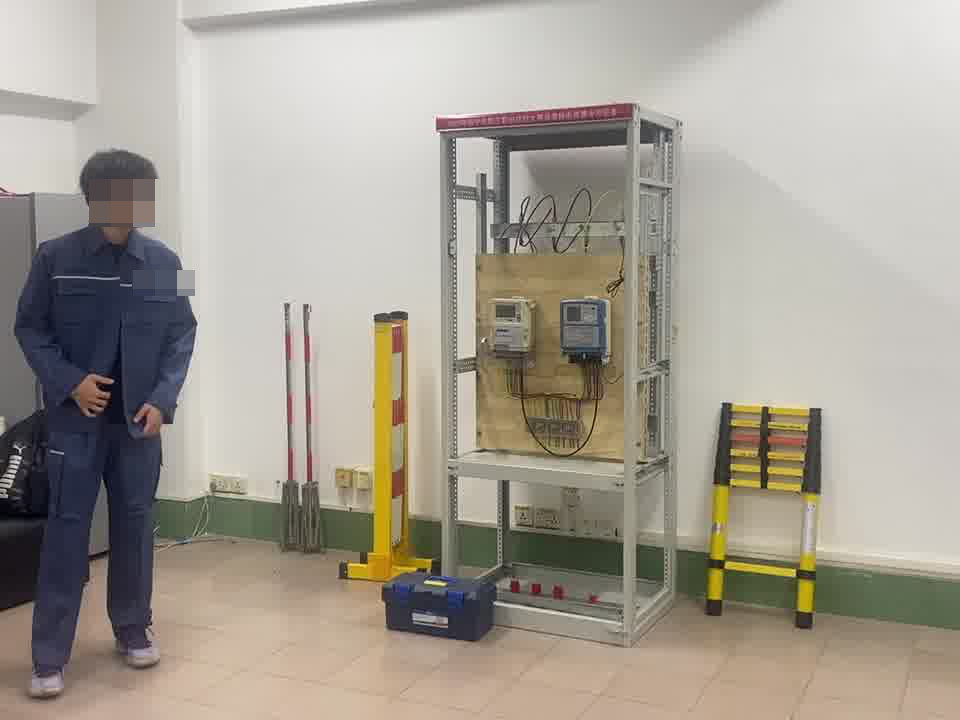downsuit: (20, 426, 167, 668)
hand: (72, 375, 113, 419), (133, 404, 168, 442)
noear: (86, 184, 117, 222)
person: (11, 142, 203, 682)
unhalt: (77, 146, 163, 239)
upsuit: (20, 227, 193, 428)
wrongsuit: (64, 309, 146, 433)
